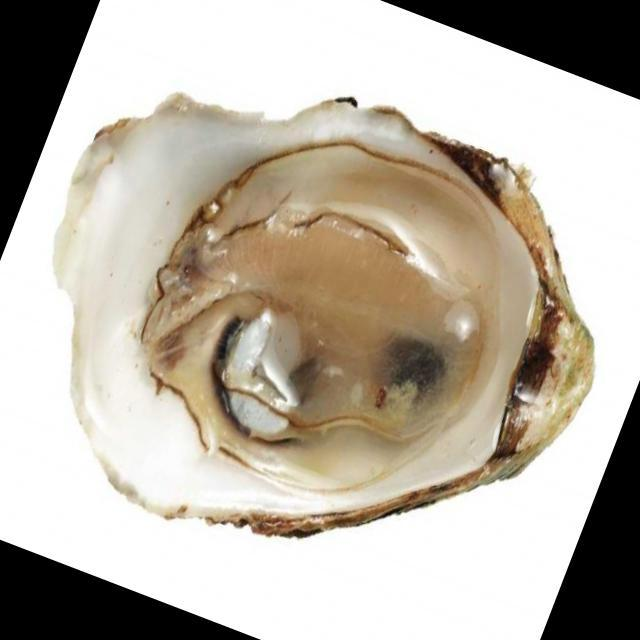Oyster-Open: (50, 89, 598, 539)
